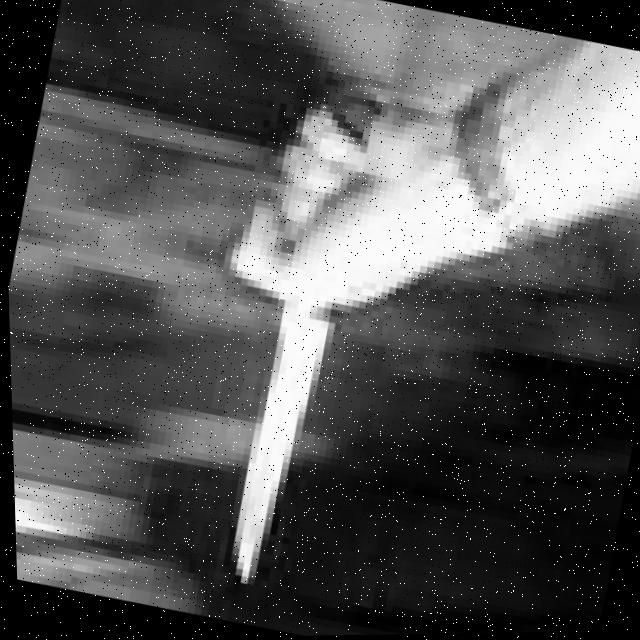knife: (209, 299, 344, 599)
